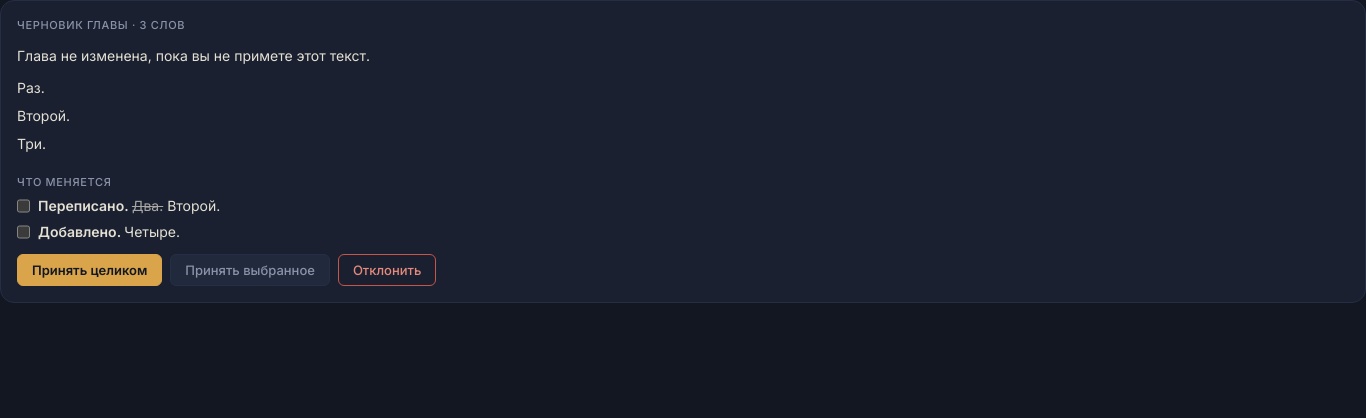
Test case: ProposalPanel — выход из 409 › если правки после перечитывания исчезли, выбор просят сделать заново
Click the checkbox labelled "Переписано. Два. Второй." at (24, 206), box [17,196,30,216]
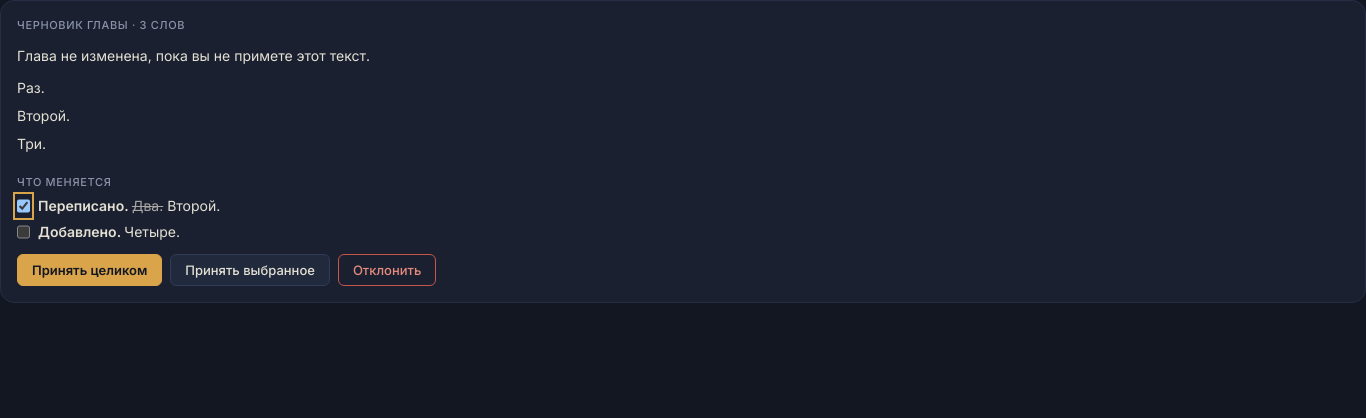
Click the button "Принять выбранное" at (250, 270), box [170,254,330,286]
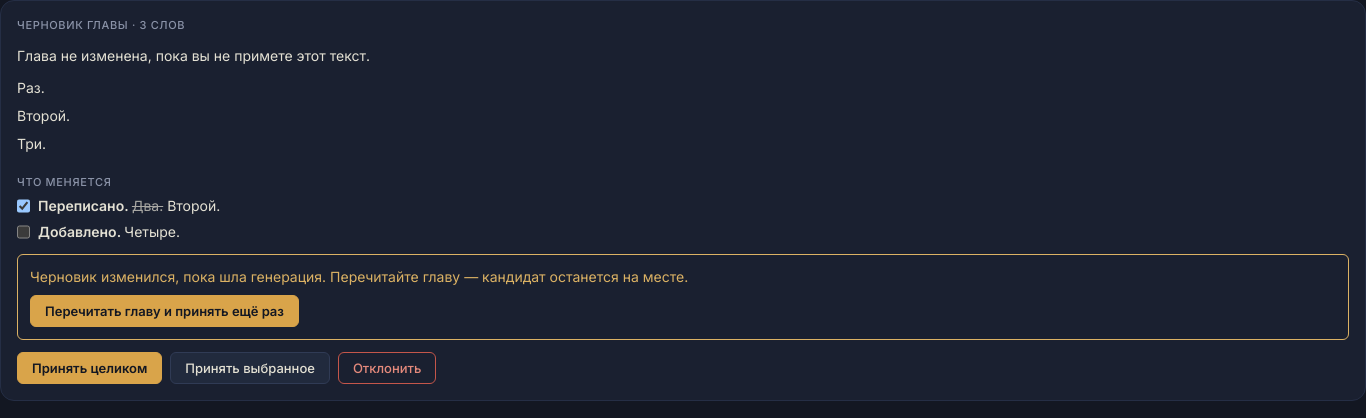
Check: the text "Черновик изменился" is shown, box [30,268,688,285]
Click the button "Перечитать главу и принять ещё раз" at (164, 311), box [30,295,299,327]
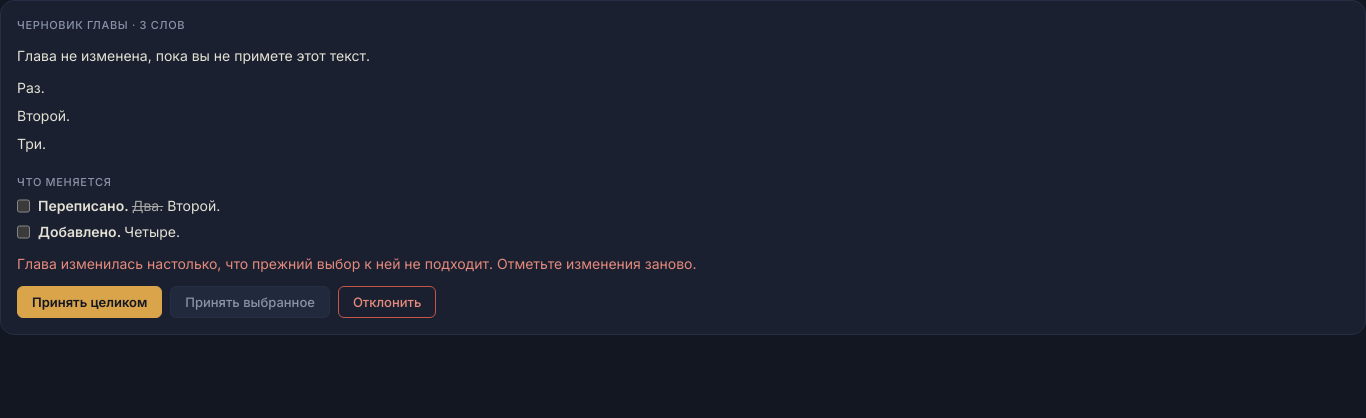
Check: the text "Отметьте изменения заново" is shown, box [17,255,696,272]
